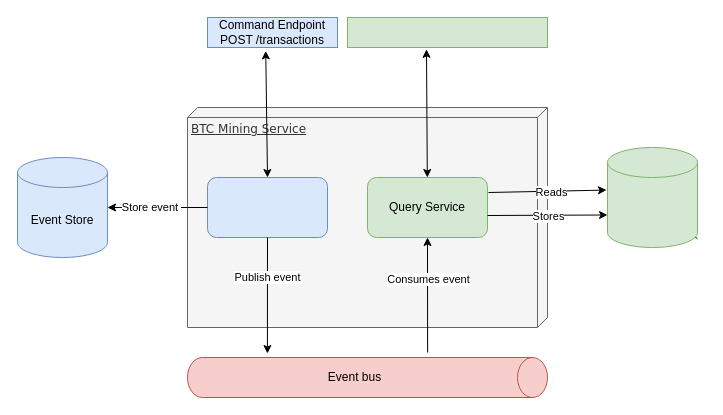
The diagram is 723 pixels wide and 415 high, and some of its shapes have lost their labels. The centre of each missing label's shape, as x and y in pixels:
"Command Service" belongs at [267,207].
"Query Endpoint POST /wallet/{walletId}/transactions" belongs at [447,32].
"Read DB" belongs at [652,197].
